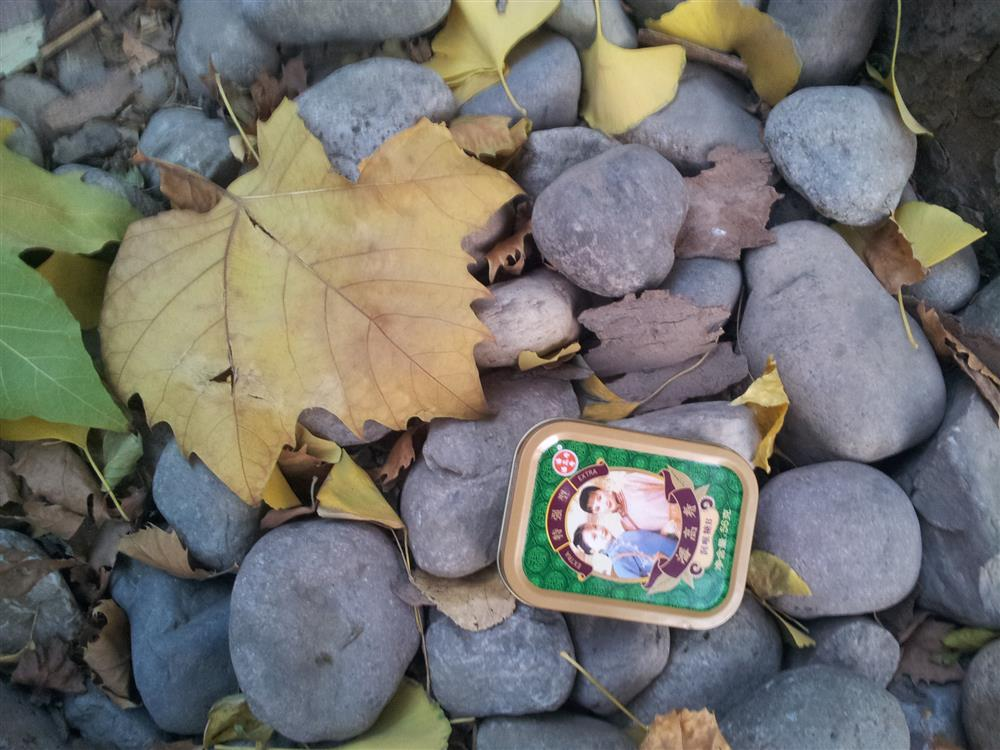pangaoshou: (493, 415, 759, 628)
